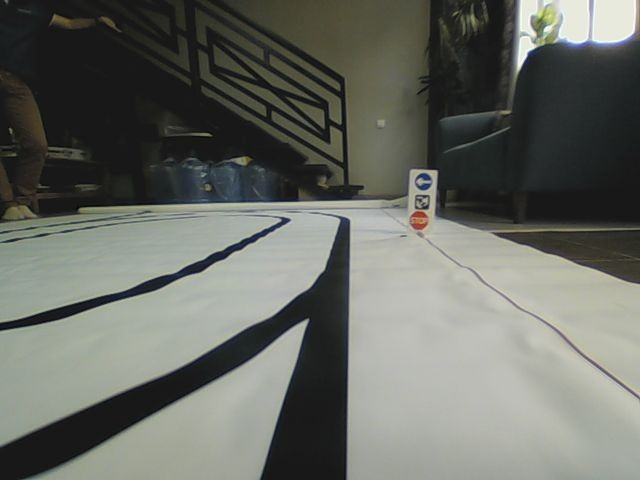Stop: (408, 211, 429, 229)
